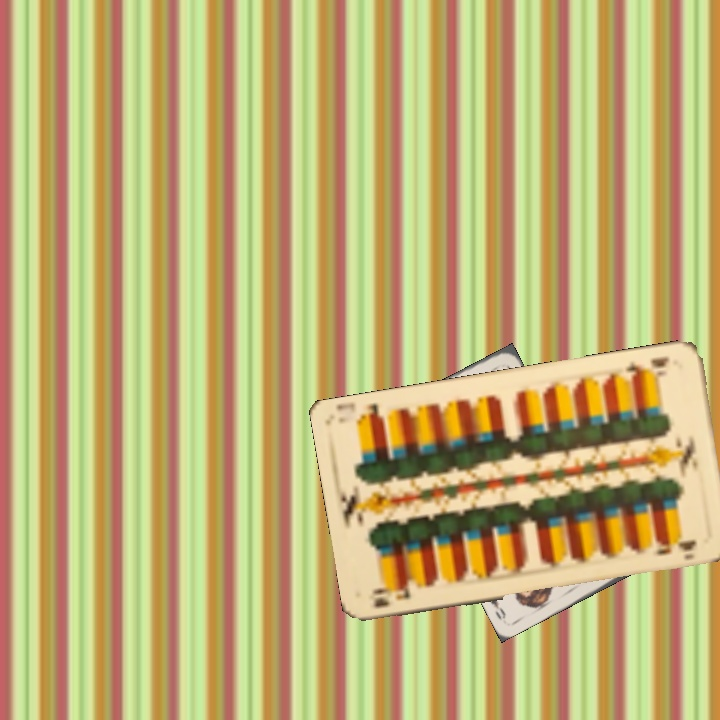E10: (621, 352, 672, 383), (368, 581, 412, 611)
